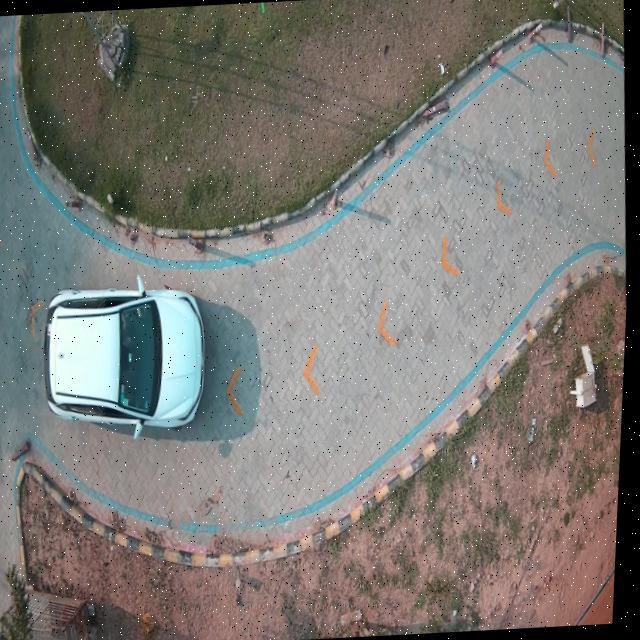car: (47, 290, 209, 427)
